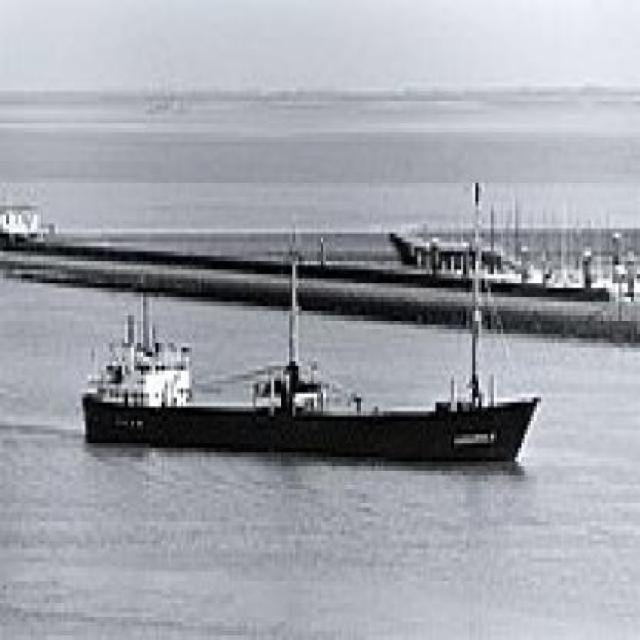container: (74, 248, 543, 489)
